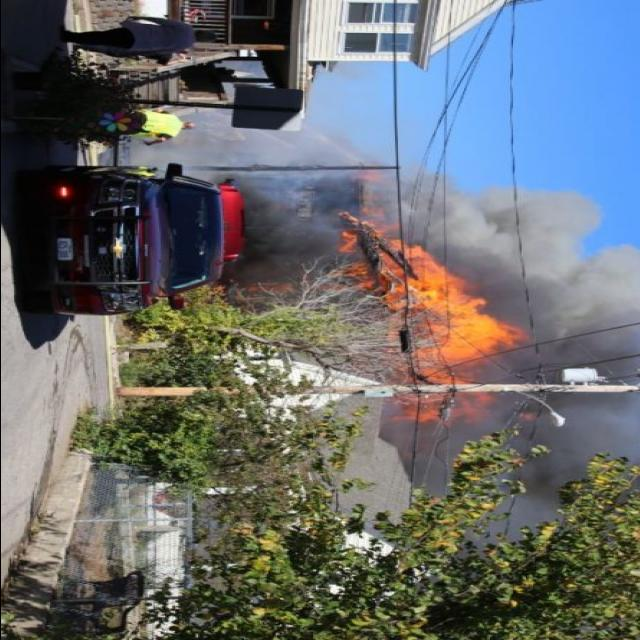Fire: (289, 206, 542, 446)
